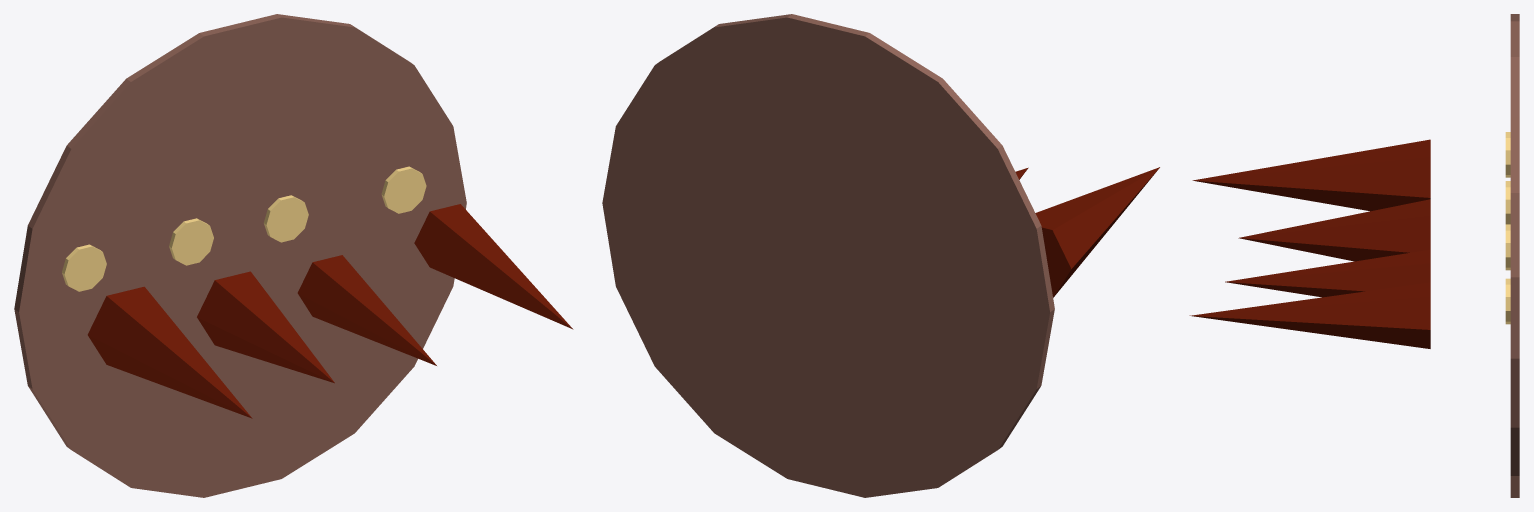
Rendered from 03_ambient_object_cluster.glb.
The picture shows the model from 3 angles, left to right: view 1: azimuth 30°, elevation 25°; view 2: azimuth 150°, elevation 25°; view 3: azimuth 270°, elevation 25°; orthographic projection. The views are drawn at different scales.
Parts seen in each view (by area): view 1: scatter_base, basalt_shard_0, basalt_shard_1, basalt_shard_3, basalt_shard_2, lava_glow_1, lava_glow_0, lava_glow_2, lava_glow_3; view 2: scatter_base, basalt_shard_0; view 3: basalt_shard_0, basalt_shard_3, basalt_shard_1, basalt_shard_2, scatter_base.
Boxes of the visible parts, x1,y1,x2,y2 form: scatter_base: (14,14,466,497); basalt_shard_0: (87,286,252,418); basalt_shard_1: (197,271,334,383); basalt_shard_3: (414,204,573,329); basalt_shard_2: (297,255,436,365); lava_glow_1: (169,218,213,265); lava_glow_0: (62,244,106,291); lava_glow_2: (264,195,308,242); lava_glow_3: (381,166,426,213); scatter_base: (602,14,1054,497); basalt_shard_0: (1035,167,1159,297); basalt_shard_0: (1192,139,1430,211); basalt_shard_3: (1189,282,1430,348); basalt_shard_1: (1238,199,1430,261); basalt_shard_2: (1225,249,1430,297); scatter_base: (1510,14,1519,497).
Size of the model in its own units: 1.9 by 1.87 by 1.29.
